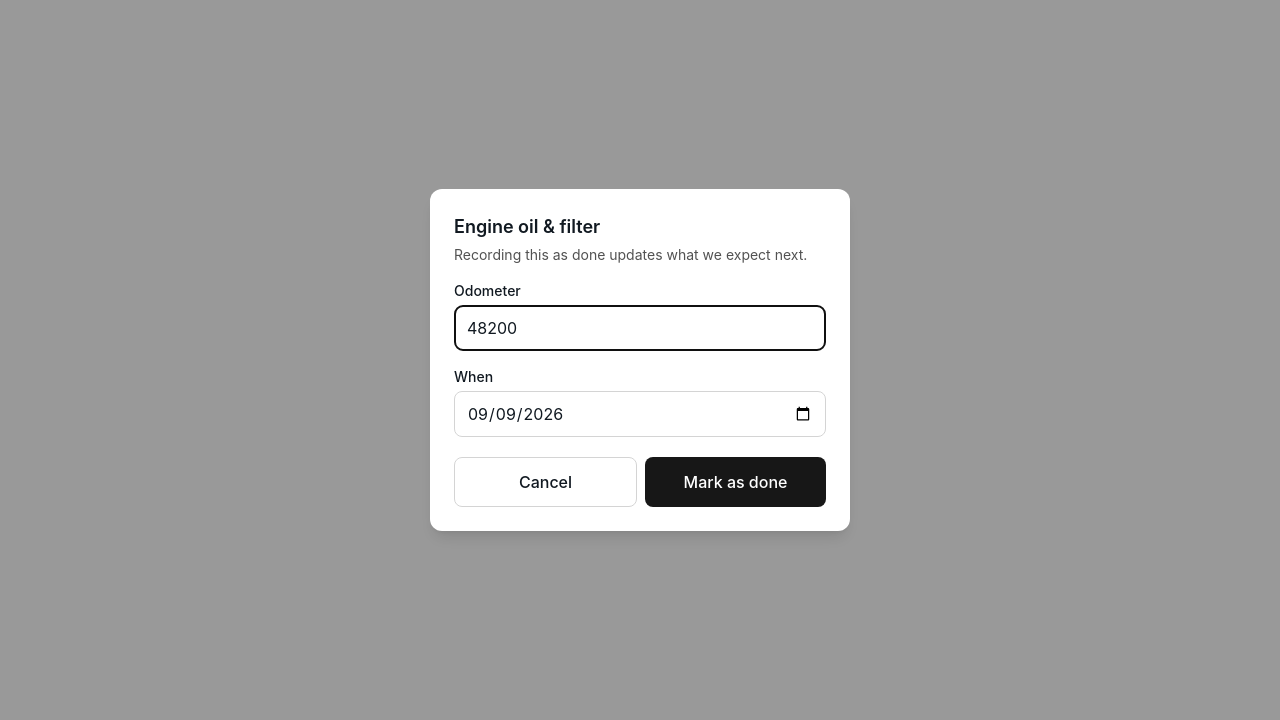
Scenario: MarkDoneSheet › names the previous reading when the number went backwards
The image size is (1280, 720).
Replace the text in the field labelled "Odometer" with "4820": (640, 328) x1=454 y1=305 x2=826 y2=351
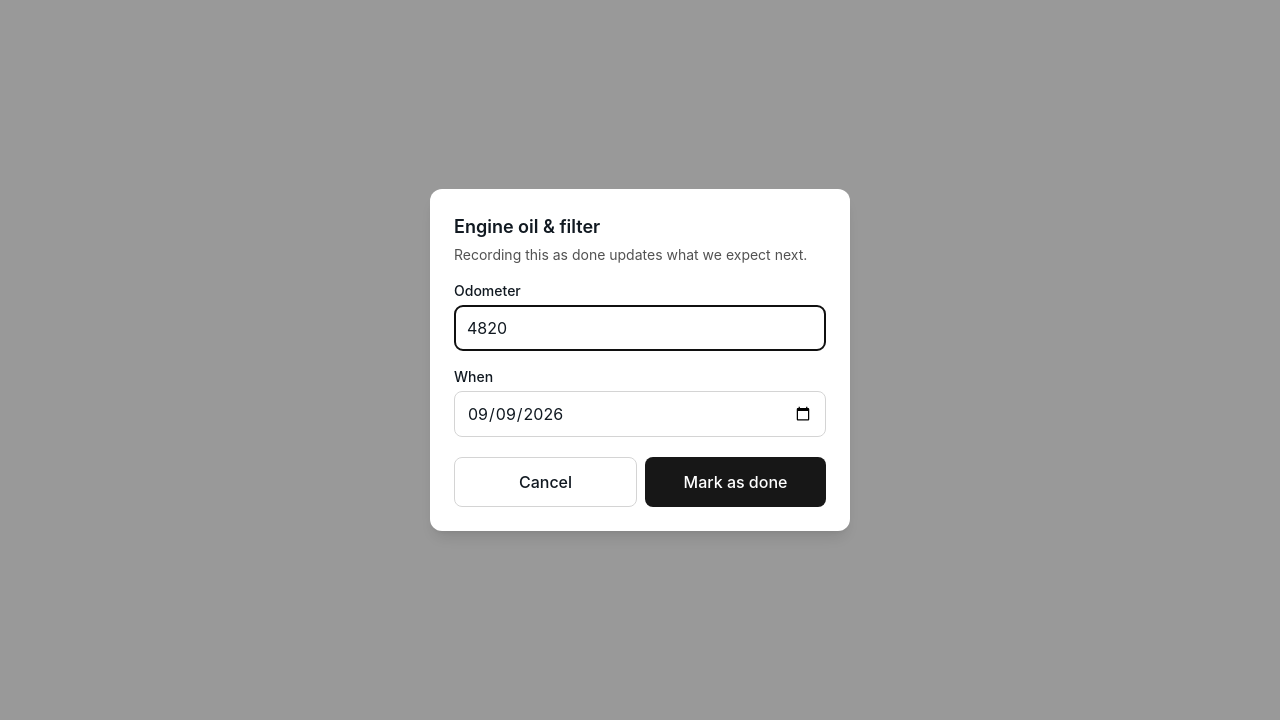
Click the button "Mark as done": (736, 482) x1=645 y1=457 x2=826 y2=507
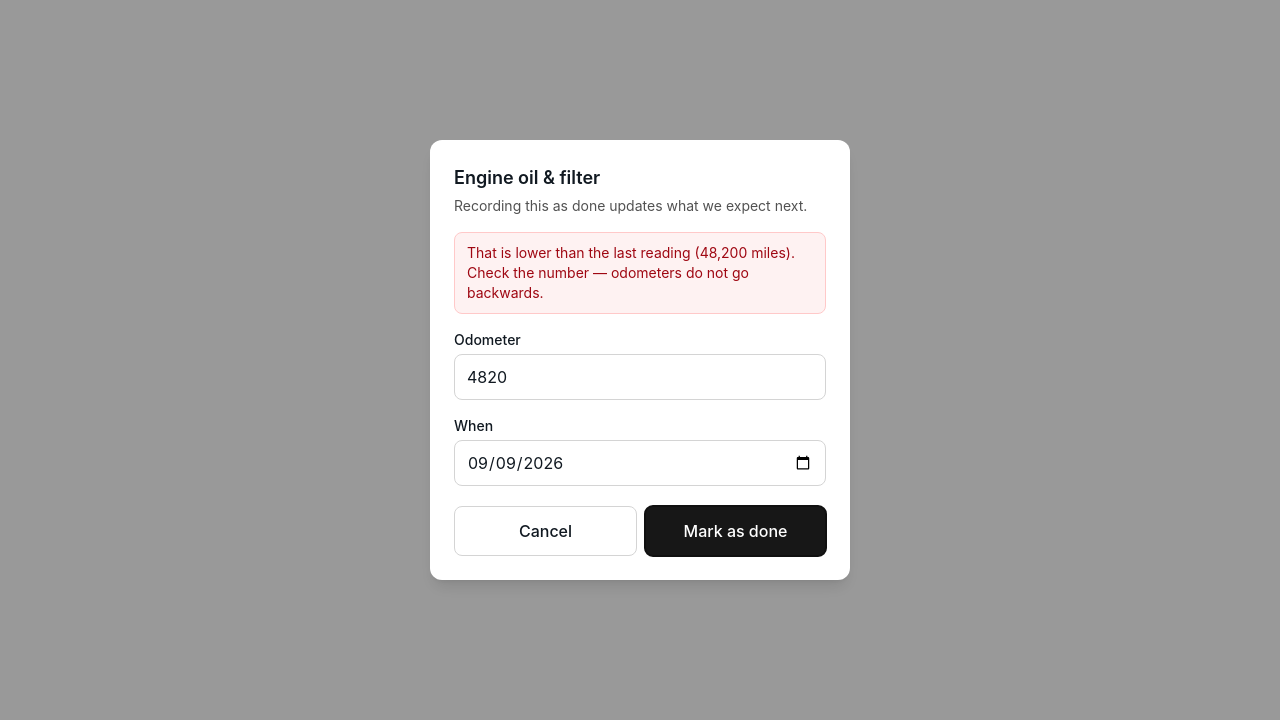
Check: the text "48,200" is shown, box x1=467 y1=244 x2=795 y2=301
